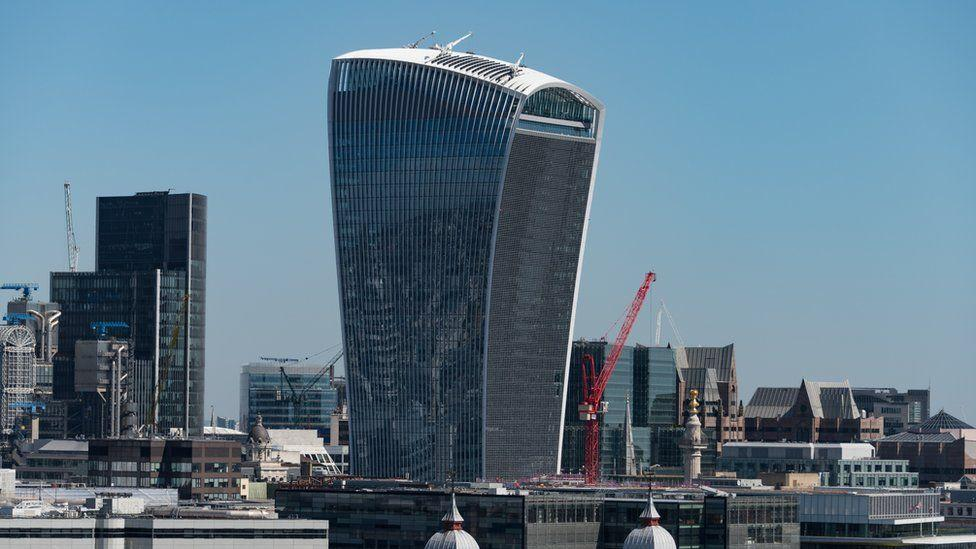Walkie talkie: (320, 37, 615, 479)
